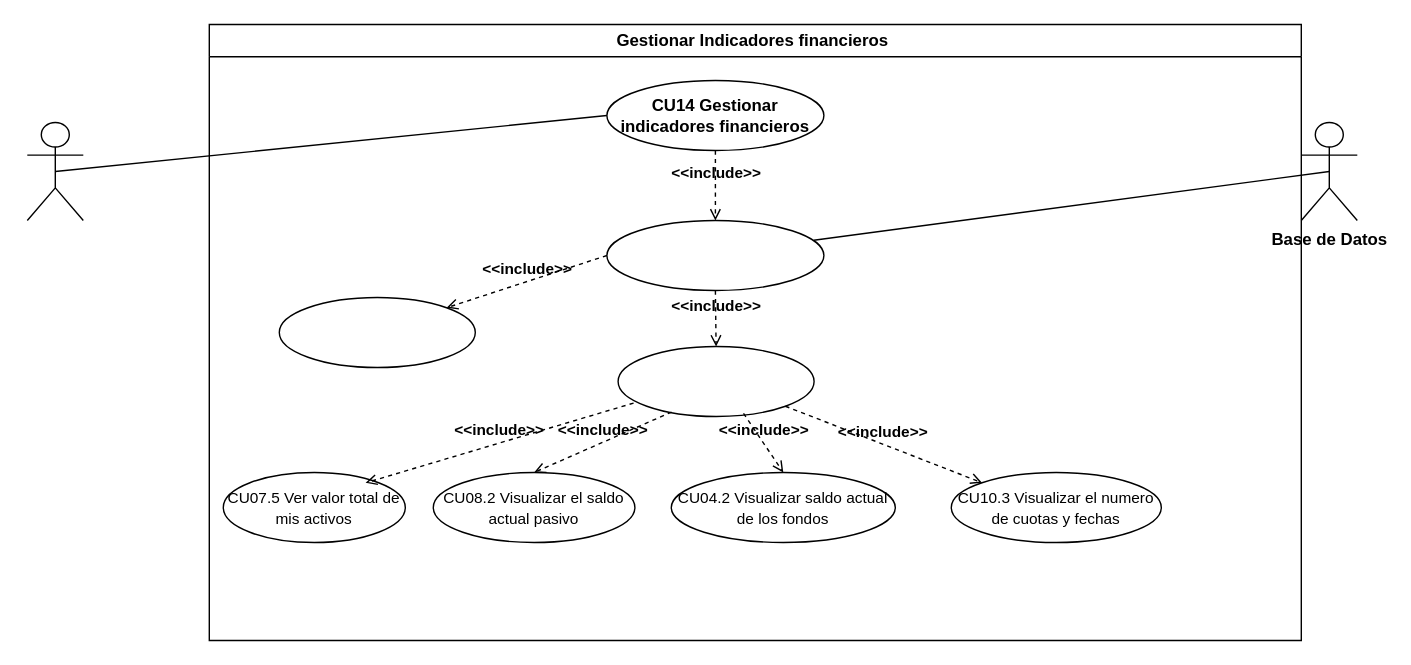
This 1411x665 diagram has some shape labels left out. The box of each missing label's shape, as (x1, y1, x2, y2) in pixels:
CU14.1 Generar indicadores financieros: (606, 219, 824, 290)
CU14.2 Consultar tipo de indicador: (278, 296, 475, 368)
CU14.3 Visualizar valor del indicador: (617, 345, 814, 416)
Usuario: (26, 121, 83, 220)
